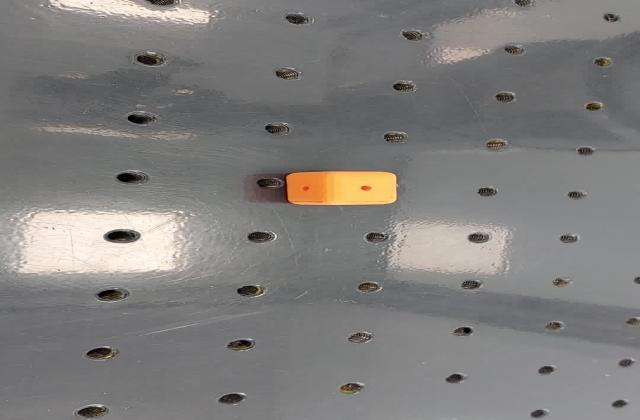cube: (278, 170, 402, 208)
